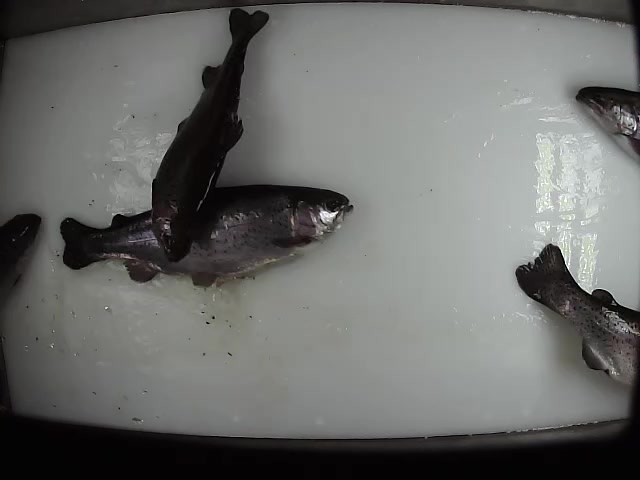fish: (59, 181, 357, 291), (147, 5, 270, 265)
